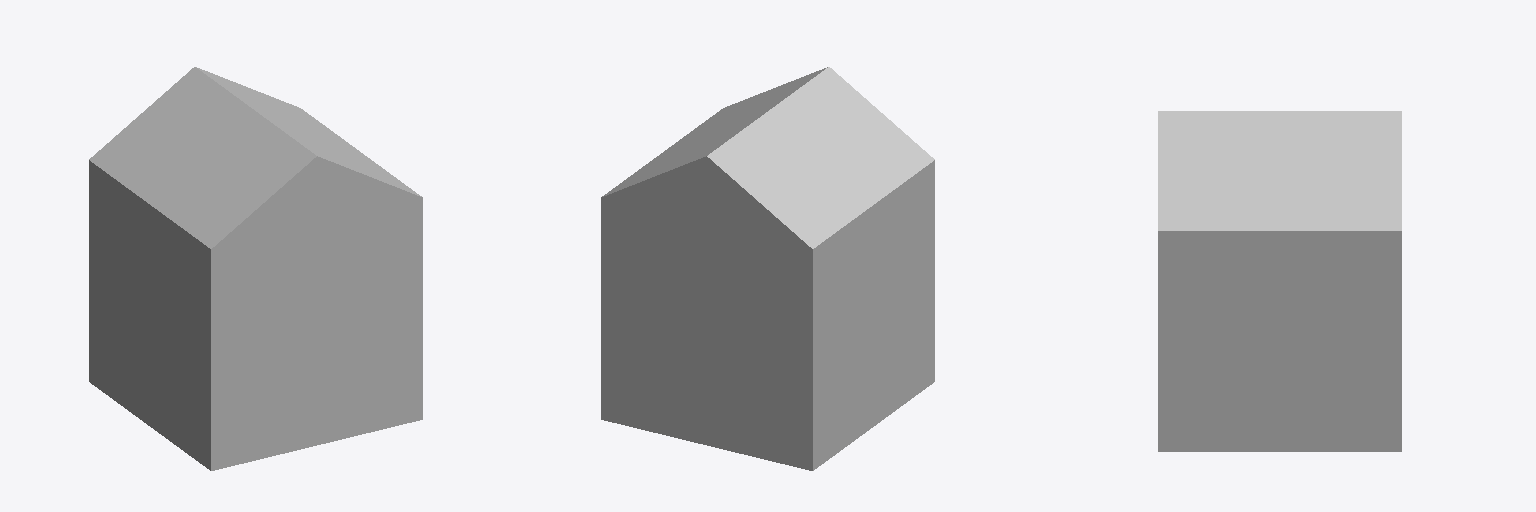
The model's file is house.obj.
3 renders of one model, left to right at view 1: azimuth 30°, elevation 25°; view 2: azimuth 150°, elevation 25°; view 3: azimuth 270°, elevation 25°, orthographic.
Visible parts, largest first — view 1: Cube.001; view 2: Cube.001; view 3: Cube.001.
Boxes of the visible parts, box(x1,y1,x2,y2) form: Cube.001: box(89, 67, 422, 470); Cube.001: box(601, 67, 934, 470); Cube.001: box(1158, 111, 1401, 451).
Bounding box in the file's own units: 5.61 × 7.32 × 5.61.